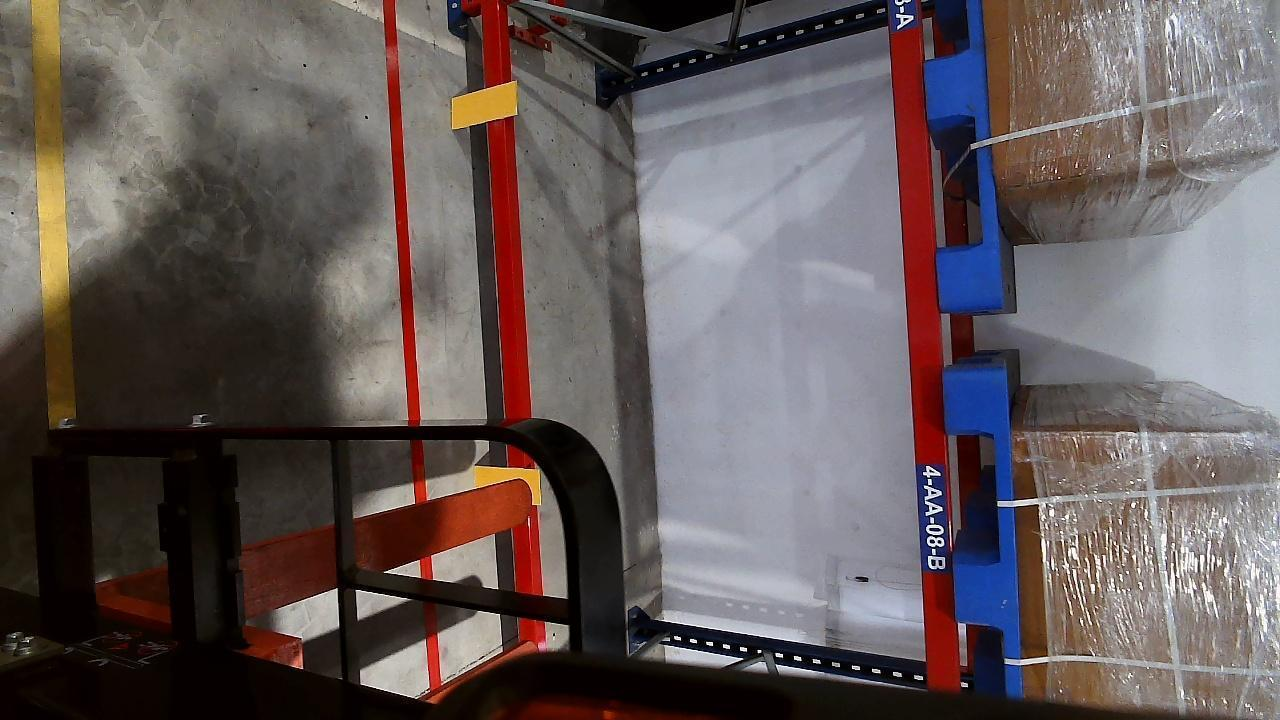red_line: (380, 0, 447, 680)
yellow_line: (30, 0, 74, 423)
